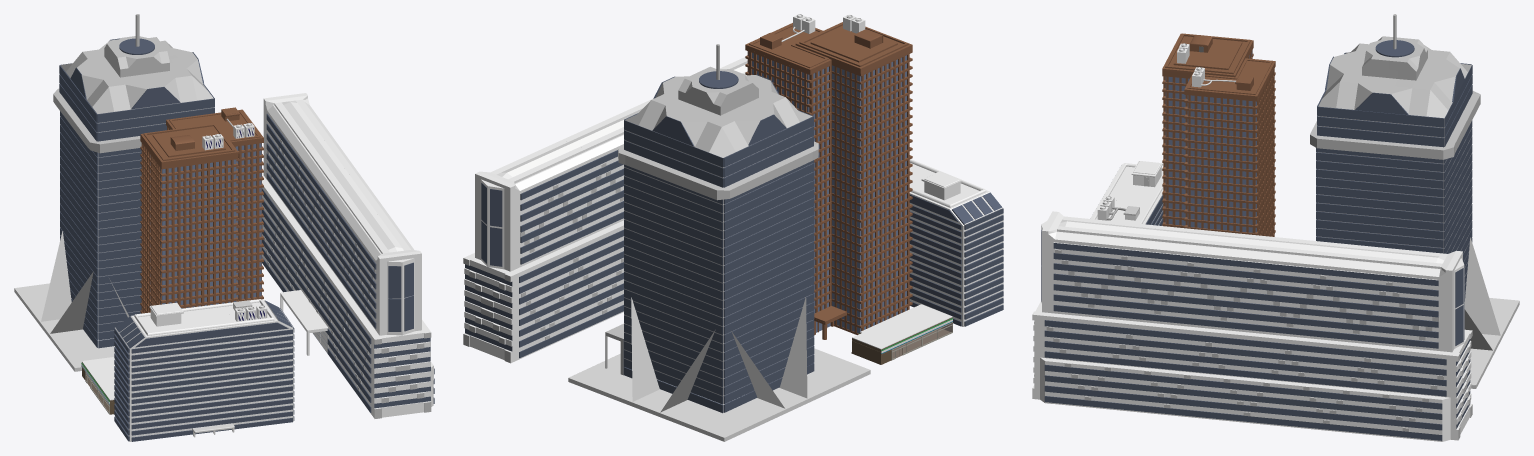
File: build2.glb
The picture shows the model from 3 angles, left to right: view 1: azimuth 30°, elevation 25°; view 2: azimuth 150°, elevation 25°; view 3: azimuth 270°, elevation 25°; orthographic projection. The views are drawn at different scales.
Parts seen in each view (by area): view 1: 立方体.016, 円柱, 円柱.001, 立方体.010, 立方体.001, 立方体; view 2: 円柱, 円柱.001, 立方体.016, 立方体.010, 立方体.001, 立方体; view 3: 立方体.016, 円柱, 円柱.001, 立方体.010, 立方体.001.
Part boxes in pixels (left/top/right/bottom): 立方体.016: left=262, top=93, right=434, bottom=418; 円柱: left=41, top=14, right=214, bottom=348; 円柱.001: left=140, top=107, right=263, bottom=313; 立方体.010: left=114, top=299, right=294, bottom=441; 立方体.001: left=14, top=283, right=114, bottom=371; 立方体: left=81, top=357, right=114, bottom=414; 円柱: left=569, top=44, right=818, bottom=413; 円柱.001: left=745, top=22, right=912, bottom=339; 立方体.016: left=463, top=57, right=747, bottom=363; 立方体.010: left=909, top=159, right=1003, bottom=326; 立方体.001: left=568, top=348, right=870, bottom=441; 立方体: left=851, top=304, right=952, bottom=364; 立方体.016: left=1032, top=211, right=1472, bottom=441; 円柱: left=1310, top=14, right=1500, bottom=385; 円柱.001: left=1162, top=33, right=1275, bottom=236; 立方体.010: left=1090, top=161, right=1163, bottom=225; 立方体.001: left=1470, top=298, right=1519, bottom=388.
Size of the model in its own units: 13.48 by 11.46 by 15.68.
